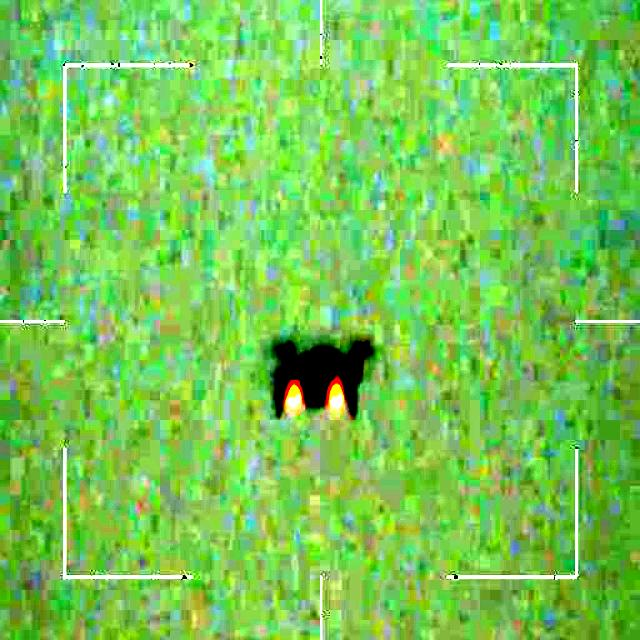bird: (266, 338, 372, 422)
